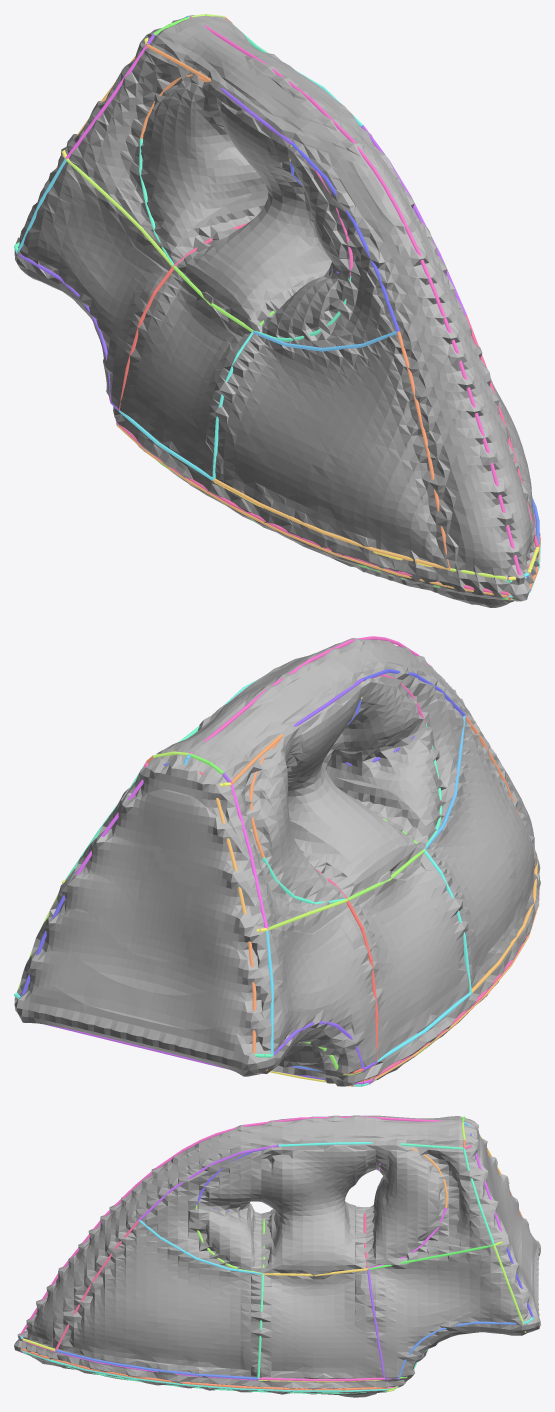
File: onshape_iron.gltf
3 views of the same model, one above another, from view 1: azimuth 30°, elevation 25°; view 2: azimuth 150°, elevation 25°; view 3: azimuth 270°, elevation 25° (orthographic). The views are drawn at different scales.
Bounding box in the file's own units: 0.3419 × 0.4508 × 0.8601.
